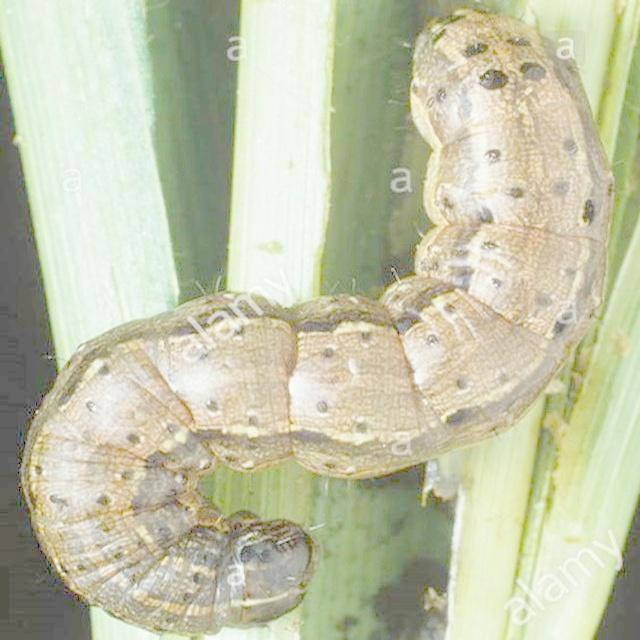gusano_cogollero: (17, 0, 616, 640)
